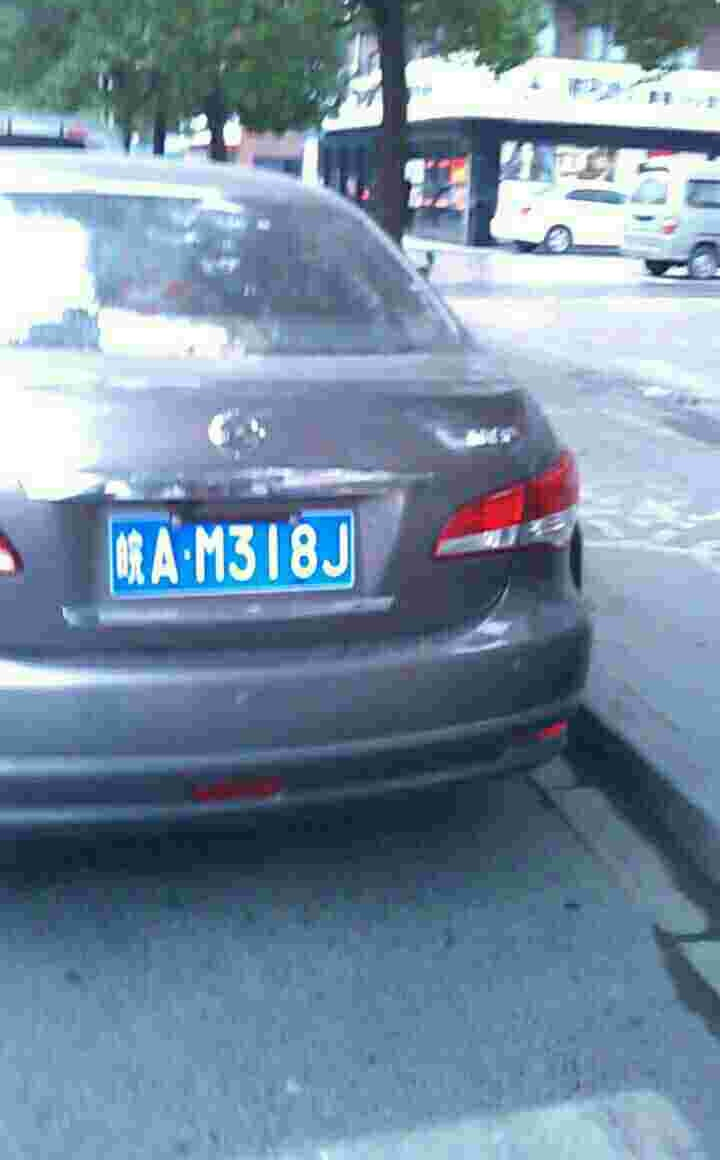plate: (114, 505, 362, 601)
